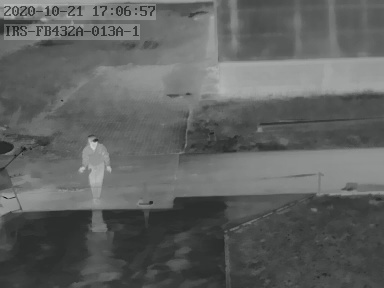person: (79, 134, 114, 198)
